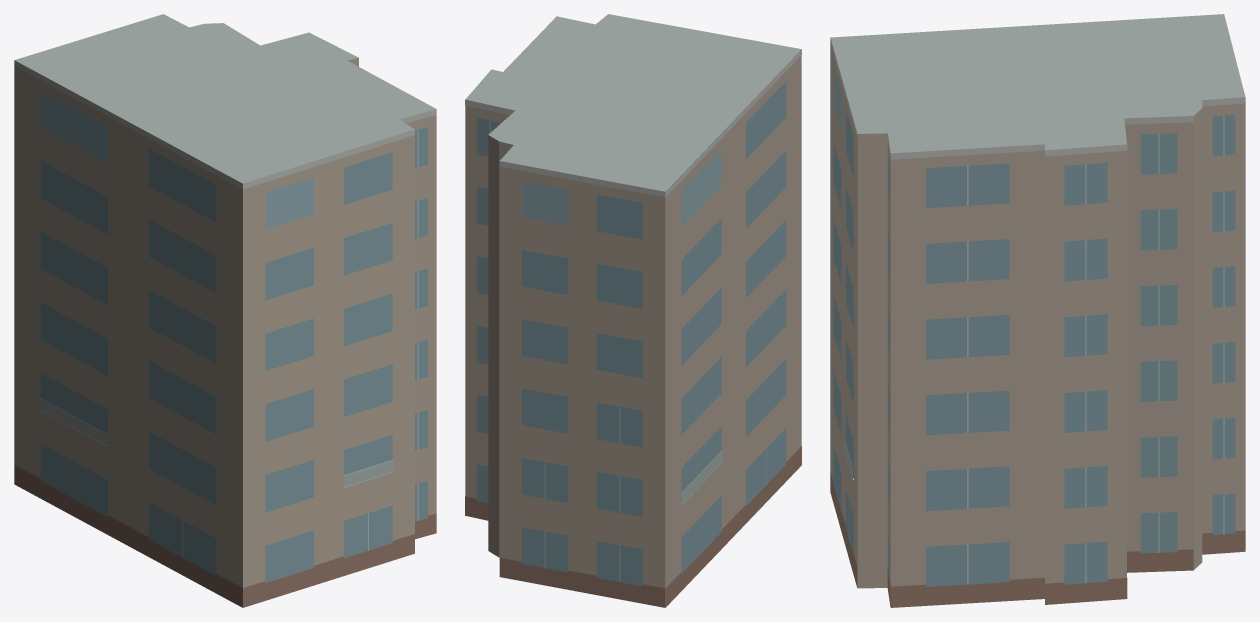
File: survey-upis-33008337.glb
The picture shows the model from 3 angles, left to right: view 1: azimuth 30°, elevation 25°; view 2: azimuth 150°, elevation 25°; view 3: azimuth 270°, elevation 25°; orthographic projection. The views are drawn at different scales.
Parts seen in each view (by area): view 1: survey-upis-33008337.tmp; view 2: survey-upis-33008337.tmp; view 3: survey-upis-33008337.tmp.
Boxes of the visible parts, box(x1,y1,x2,y2) form: survey-upis-33008337.tmp: box(14, 14, 436, 607); survey-upis-33008337.tmp: box(465, 14, 801, 607); survey-upis-33008337.tmp: box(830, 14, 1245, 607).
Bounding box in the file's own units: 11.72 × 17.8 × 14.75.
